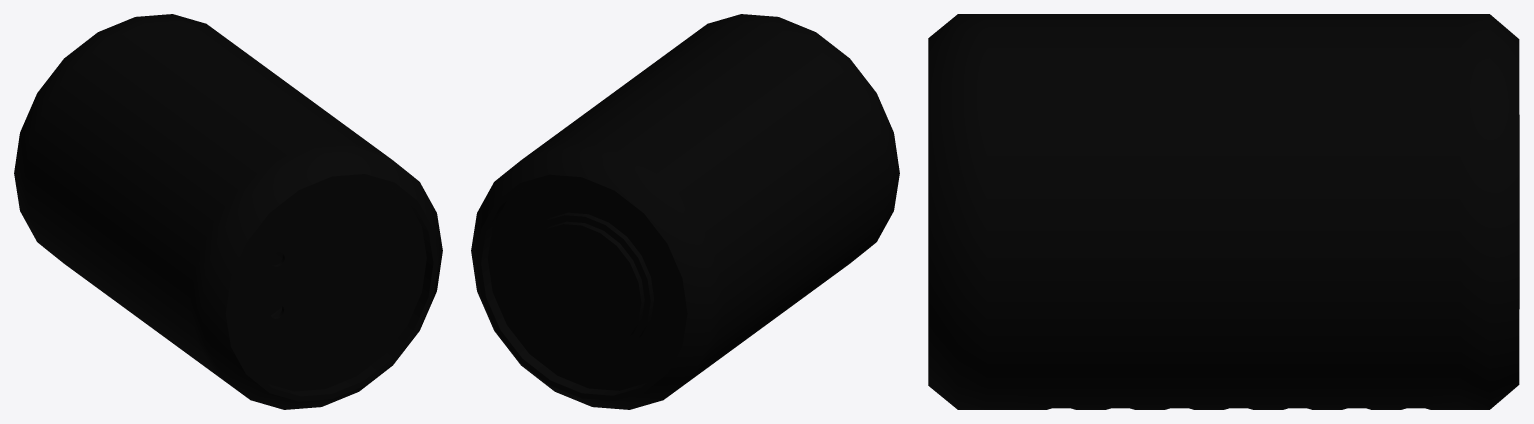
The model's file is base_trasera.glb.
3 renders of one model, left to right at view 1: azimuth 30°, elevation 25°; view 2: azimuth 150°, elevation 25°; view 3: azimuth 270°, elevation 25°, orthographic. The views are drawn at different scales.
Visible parts, largest first — view 1: base_trasera; view 2: base_trasera; view 3: base_trasera.
Boxes of the visible parts, x1=… form: base_trasera: x1=14, y1=14, x2=442, y2=409; base_trasera: x1=471, y1=14, x2=899, y2=409; base_trasera: x1=928, y1=14, x2=1519, y2=409.
Bounding box in the file's own units: 1.47 × 1.47 × 2.17.
1 material, 1 textured.
